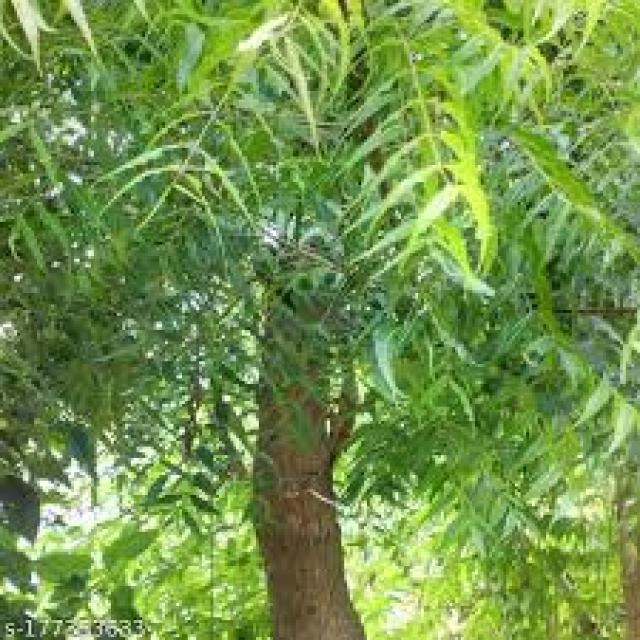Neem-Tree: (0, 5, 640, 639)
